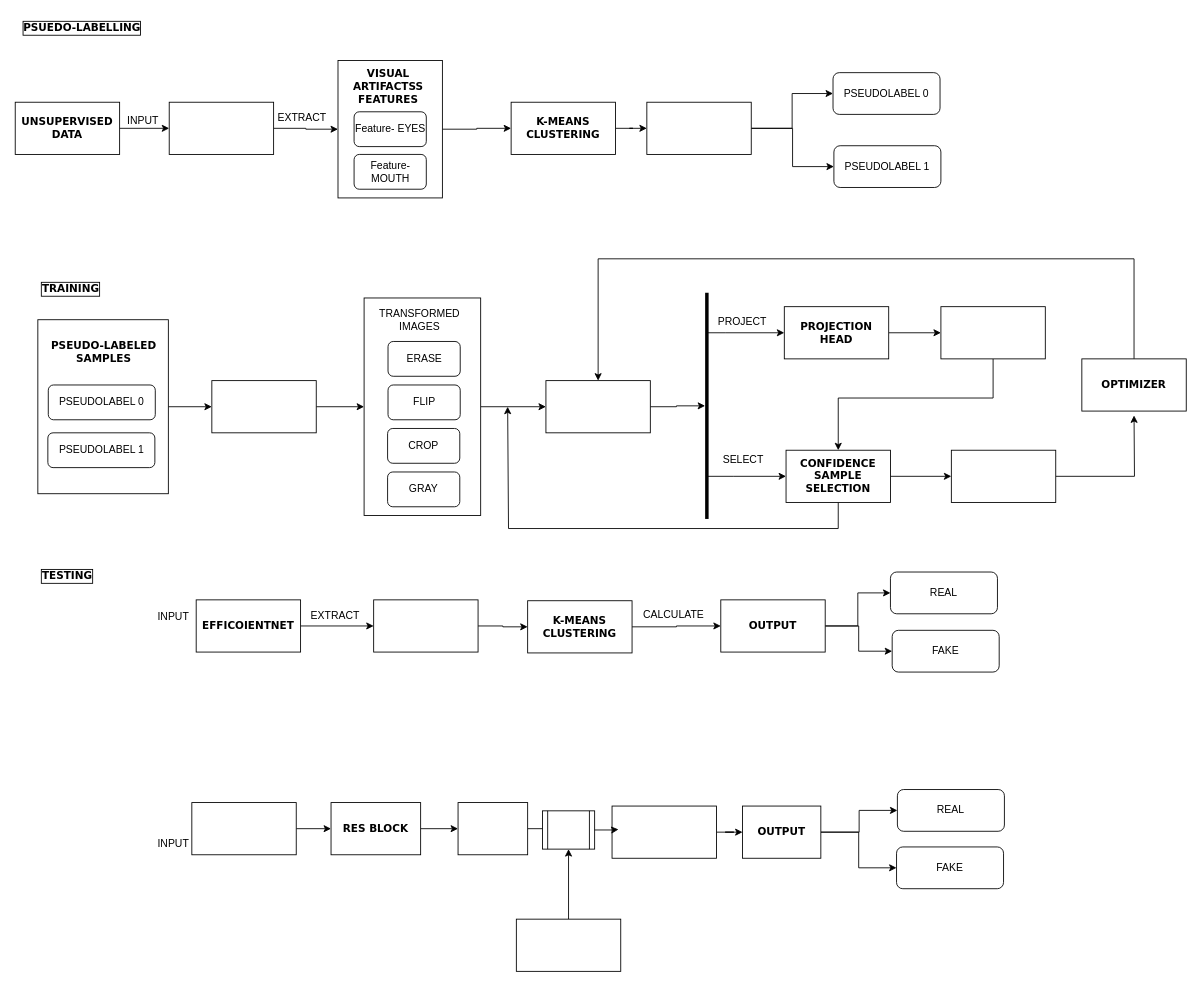
Some shapes in this 1201 by 987 pixel diagram are drawn without their labels. Here are the shapes that lost their labels. From the top down, the centre of each, then its label:
At (x=221, y=127): "VISUAL ARTIFACTS FEATURE (VAF) EXTRACTOR".
At (x=698, y=127): "PSUEDO-LABELS ASSSIGNMENT".
At (x=992, y=332): "FEATURE EMBEDDING".
At (x=263, y=406): "DATA AUGMENTATION".
At (x=597, y=406): "EFFICIENTNET".
At (x=1003, y=475): "CONTRASTIVE LOSS".
At (x=425, y=625): "DISCRIMINATIVE FEATURES".
At (x=243, y=828): "FIXED SINC".
At (x=492, y=828): "GRU".
At (x=663, y=831): "BINARY CLASSIFICATION".
At (x=568, y=944): "VOCODER IDENTIFICATION".
